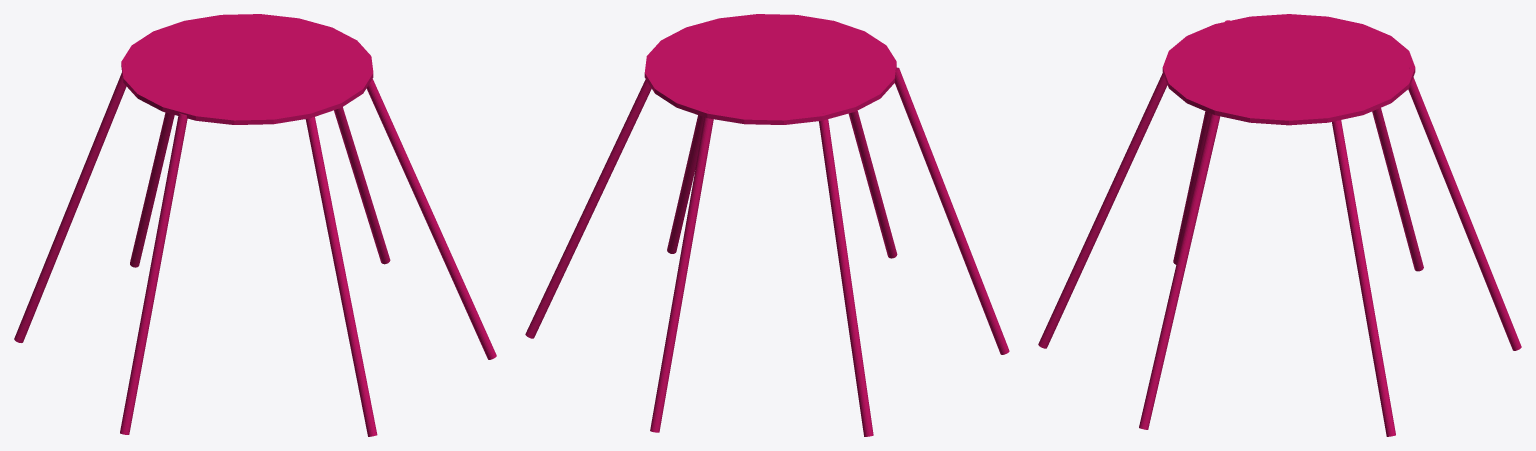
Rendered from whiskers.obj.
The picture shows the model from 3 angles, left to right: view 1: azimuth 30°, elevation 25°; view 2: azimuth 150°, elevation 25°; view 3: azimuth 270°, elevation 25°; orthographic projection.
Parts seen in each view (by area): view 1: Cylinder.023_Cylinder.030; view 2: Cylinder.023_Cylinder.030; view 3: Cylinder.023_Cylinder.030.
Boxes of the visible parts, x1,y1,x2,y2 form: Cylinder.023_Cylinder.030: [14, 14, 496, 436]; Cylinder.023_Cylinder.030: [525, 14, 1009, 436]; Cylinder.023_Cylinder.030: [1038, 14, 1521, 436].
Bounding box in the file's own units: 1.8 × 1.3 × 2.01.
